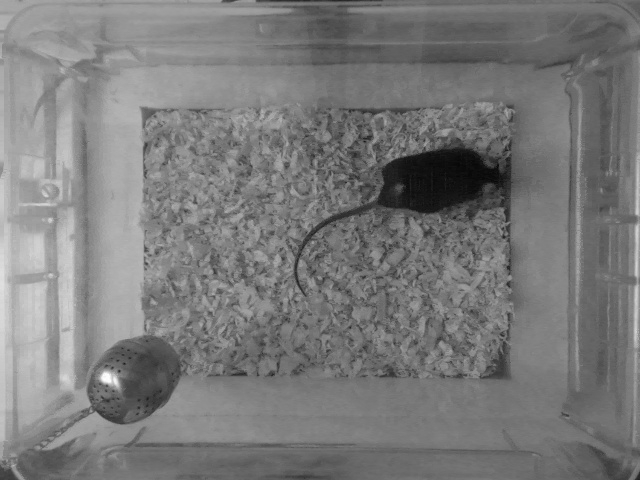mice: (289, 143, 514, 304)
